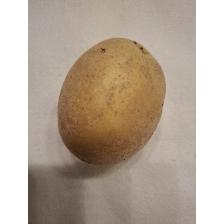Kartoffel: (55, 34, 170, 168)
